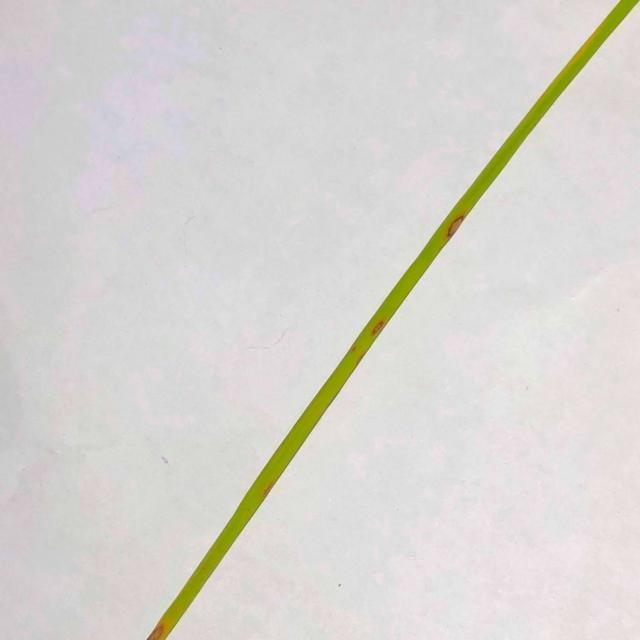Blast: (446, 211, 468, 232), (372, 322, 388, 332)
